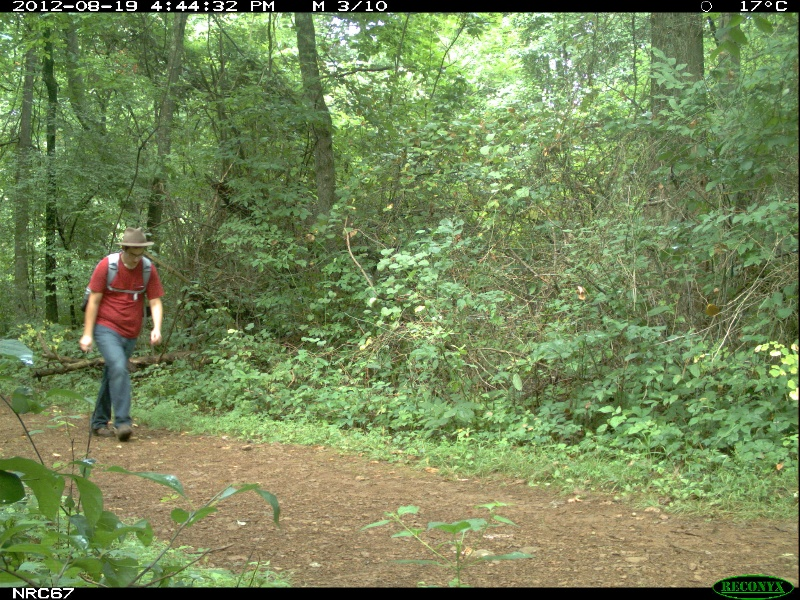human: (79, 228, 164, 444)
human face: (119, 244, 147, 273)
human legs: (87, 318, 145, 443)
